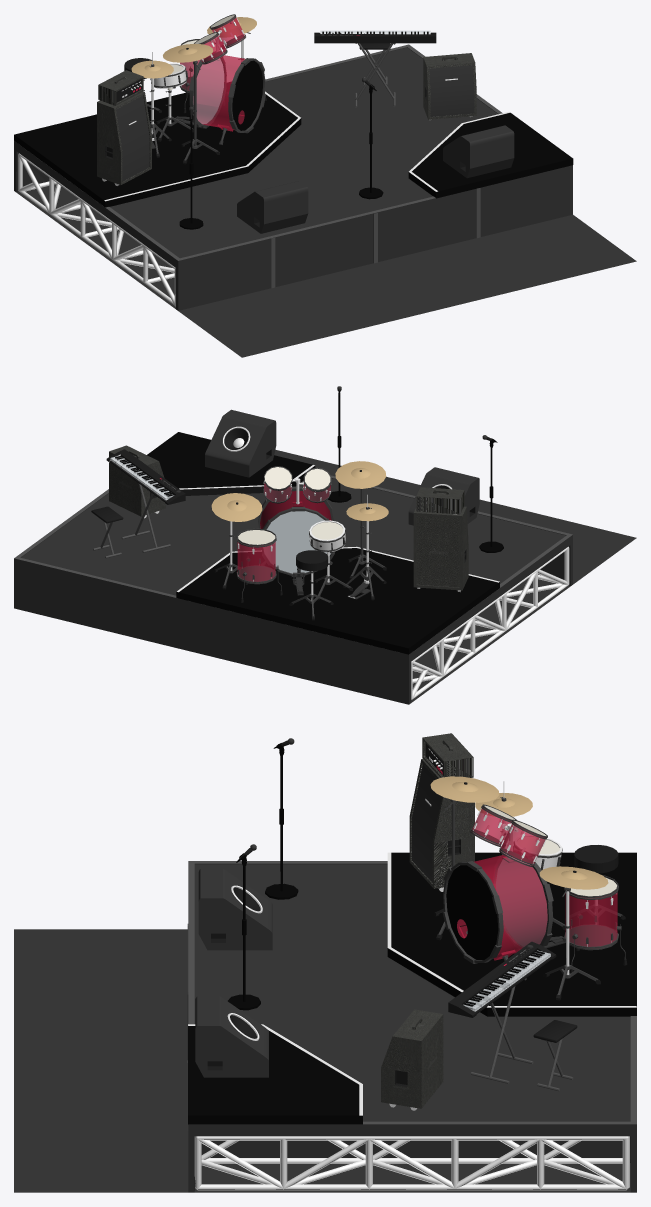
Rendered from mademoisellek_base-scene.obj.
The picture shows the model from 3 angles, top to bottom: view 1: azimuth 30°, elevation 25°; view 2: azimuth 150°, elevation 25°; view 3: azimuth 270°, elevation 25°; orthographic projection. The views are drawn at different scales.
Parts seen in each view (by area): view 1: Base_scène, Base, Base_batterie, Base_avant, Structure_droite, Cube.2_4, Cylinder_70, Ampli, Speaker_gauche, Speaker_droite, Clavier, Cylinder_69 (+8 smaller); view 2: Base_scène, Base_batterie, Base_avant, Structure_droite, Cube.2_4, Base, Speaker_gauche, Cylinder_69, Ampli, Cylinder.9_5, Clavier, Speaker_droite (+15 smaller); view 3: Base_scène, Base, Base_batterie, Structure_gauche, Base_avant, Cylinder_70, Cube.2_4, Speaker_gauche, Speaker_droite, Ampli, Cylinder_69, Clavier (+14 smaller).
Boxes of the visible parts, left/top/right/bottom form: Base_scène: left=14, top=44, right=572, bottom=310; Base: left=178, top=214, right=636, bottom=357; Base_batterie: left=14, top=82, right=301, bottom=207; Base_avant: left=408, top=111, right=573, bottom=198; Structure_droite: left=18, top=153, right=175, bottom=306; Cube.2_4: left=97, top=91, right=151, bottom=185; Cylinder_70: left=193, top=55, right=262, bottom=131; Ampli: left=423, top=53, right=476, bottom=119; Speaker_gauche: left=443, top=125, right=514, bottom=178; Speaker_droite: left=237, top=181, right=308, bottom=233; Clavier: left=314, top=30, right=436, bottom=43; Cylinder_69: left=193, top=58, right=224, bottom=123; Base_scène: left=14, top=475, right=572, bottom=704; Base_batterie: left=176, top=546, right=499, bottom=654; Base_avant: left=147, top=432, right=315, bottom=495; Structure_droite: left=411, top=546, right=569, bottom=699; Cube.2_4: left=413, top=506, right=468, bottom=590; Base: left=274, top=449, right=636, bottom=584; Speaker_gauche: left=205, top=409, right=276, bottom=477; Cylinder_69: left=263, top=511, right=331, bottom=573; Ampli: left=109, top=445, right=165, bottom=516; Cylinder.9_5: left=237, top=530, right=275, bottom=581; Clavier: left=106, top=449, right=185, bottom=504; Speaker_droite: left=408, top=467, right=479, bottom=525; Base_scène: left=187, top=861, right=636, bottom=1192; Base: left=14, top=929, right=188, bottom=1192; Base_batterie: left=387, top=852, right=636, bottom=1016; Structure_gauche: left=194, top=1136, right=629, bottom=1190; Base_avant: left=188, top=1024, right=362, bottom=1124; Cylinder_70: left=446, top=855, right=547, bottom=960; Cube.2_4: left=409, top=758, right=474, bottom=888; Speaker_gauche: left=195, top=996, right=268, bottom=1077; Speaker_droite: left=198, top=868, right=272, bottom=950; Ampli: left=381, top=1009, right=443, bottom=1108; Cylinder_69: left=496, top=857, right=547, bottom=946; Clavier: left=448, top=941, right=556, bottom=1017.
Bounding box in the file's own units: 500 × 199 × 500.
